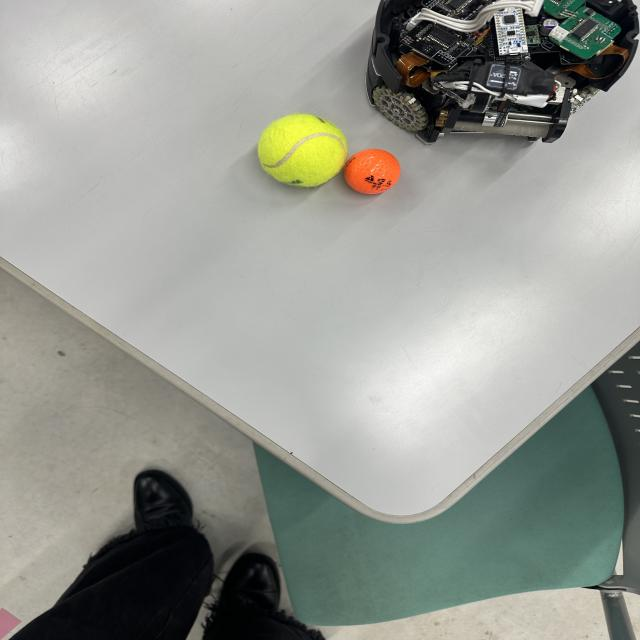ball: (339, 145, 409, 198)
